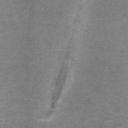finishing roll printing: (50, 28, 76, 109), (36, 110, 54, 121)
